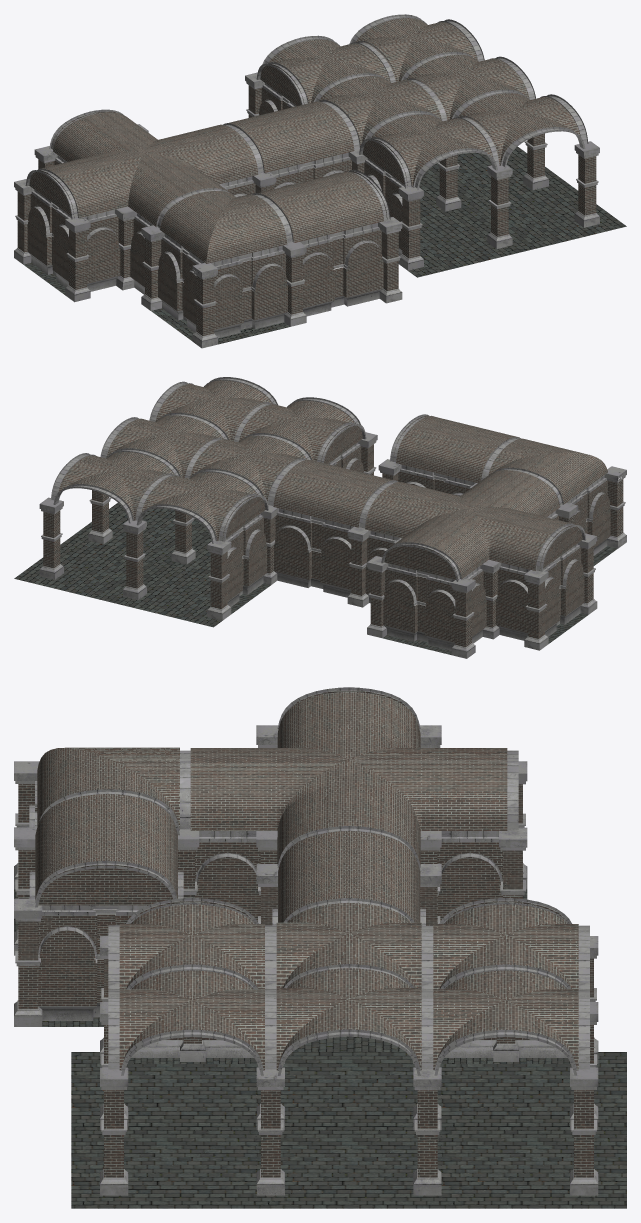
Rendered from Victorian era-inspired environment.fbx.
3 renders of one model, top to bottom at view 1: azimuth 30°, elevation 25°; view 2: azimuth 150°, elevation 25°; view 3: azimuth 270°, elevation 25°, orthographic. The views are drawn at different scales.
Parts seen in each view (by area): view 1: Plane001, TECHO PROFE004, ARCO BUENO008, culumna nueva 059, ARCO BUENO007, Plane007, culumna nueva 050, Plane004, TECHO PROFE009, TECHO PROFE006, TECHO PROFE010, TECHO PROFE007 (+14 smaller); view 2: TECHO PROFE004, ARCO BUENO007, culumna nueva 056, Plane001, culumna nueva 059, culumna nueva 057, ARCO BUENO008, Plane006, Plane003, TECHO PROFE006, TECHO PROFE009, TECHO PROFE011 (+14 smaller); view 3: TECHO PROFE004, culumna nueva 055, Plane006, Plane007, Plane001, Plane005, Plane003, Plane004, ARCO BUENO007, Plane002, ARCO BUENO008, TECHO PROFE009 (+26 smaller).
Boxes of the visible parts, bbox=[...] form: Plane001: bbox=[141, 188, 306, 348]; TECHO PROFE004: bbox=[42, 112, 258, 294]; ARCO BUENO008: bbox=[259, 171, 383, 316]; culumna nueva 059: bbox=[14, 168, 90, 302]; ARCO BUENO007: bbox=[228, 101, 354, 189]; Plane007: bbox=[462, 182, 626, 251]; culumna nueva 050: bbox=[348, 137, 423, 270]; Plane004: bbox=[408, 208, 521, 277]; TECHO PROFE009: bbox=[406, 54, 529, 120]; TECHO PROFE006: bbox=[318, 76, 441, 145]; TECHO PROFE010: bbox=[458, 93, 580, 165]; TECHO PROFE007: bbox=[371, 114, 492, 186]; TECHO PROFE004: bbox=[365, 470, 570, 643]; ARCO BUENO007: bbox=[273, 459, 392, 597]; culumna nueva 056: bbox=[367, 542, 475, 658]; Plane001: bbox=[469, 437, 626, 565]; culumna nueva 059: bbox=[524, 523, 597, 650]; culumna nueva 057: bbox=[207, 493, 278, 620]; ARCO BUENO008: bbox=[396, 416, 520, 495]; Plane006: bbox=[14, 536, 170, 602]; Plane003: bbox=[114, 561, 221, 627]; TECHO PROFE006: bbox=[190, 435, 307, 501]; TECHO PROFE009: bbox=[107, 415, 223, 477]; TECHO PROFE011: bbox=[58, 452, 174, 520]; TECHO PROFE004: bbox=[190, 692, 507, 921]; culumna nueva 055: bbox=[14, 860, 177, 1026]; Plane006: bbox=[441, 1130, 626, 1208]; Plane007: bbox=[71, 1130, 256, 1208]; Plane001: bbox=[14, 747, 199, 955]; Plane005: bbox=[256, 1130, 441, 1208]; Plane003: bbox=[441, 1052, 626, 1130]; Plane004: bbox=[71, 1052, 256, 1130]; ARCO BUENO007: bbox=[272, 831, 425, 1051]; Plane002: bbox=[256, 1052, 441, 1130]; ARCO BUENO008: bbox=[29, 794, 183, 899]; TECHO PROFE009: bbox=[276, 968, 421, 1070].
Size of the model in its own units: 3049 by 611 by 2151.
